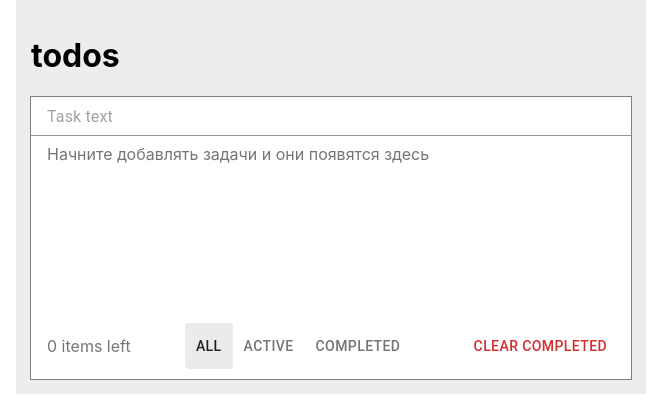
Test: app works correctly with routes › should open completed after click on completed button
Step 1. Click the button "Completed" → (358, 347), box [304,323,412,370]
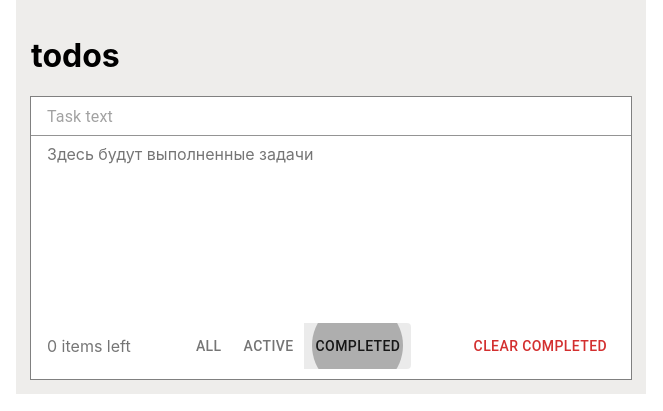
Now the text "Здесь будут выполненные задачи" is shown, box [47,144,313,164]
